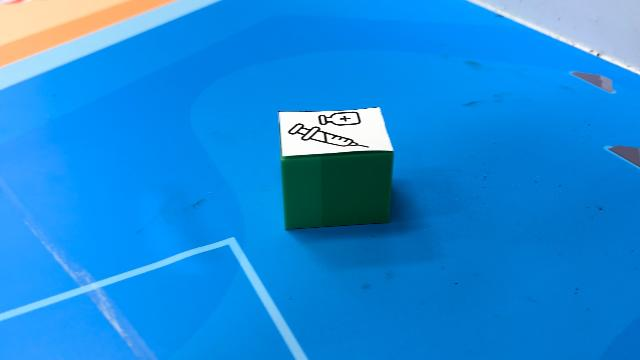syringe: (278, 106, 394, 230)
